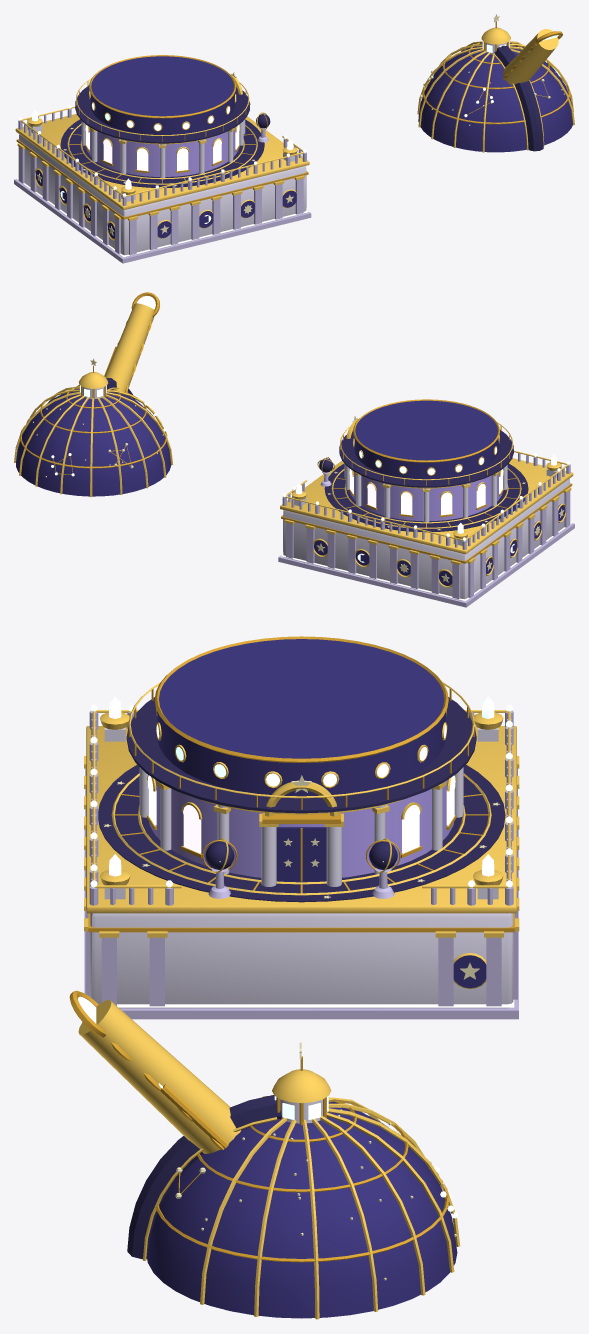
Rendered from ObservatoryV2.fbx.
3 views of the same model, one above another, from view 1: azimuth 30°, elevation 25°; view 2: azimuth 150°, elevation 25°; view 3: azimuth 270°, elevation 25° (orthographic). The views are drawn at different scales.
Visible parts, largest first — view 1: ObservatoryDomeV2__Dome__3B3480SP, ObservatoryV2__UpperDrum__3B3480SP, ObservatoryV2__Platform__EDE8FFSP, ObservatoryV2__Pilasters__CFC6F2SP, ObservatoryV2__Trim__FFD25AME, ObservatoryV2__TerraceFloor__2E2A5CSP, ObservatoryV2__Drum__B9A6FFSP, ObservatoryV2__Catwalk__2E2A5CSP, ObservatoryV2__Molding__CFC6F2SP, ObservatoryDomeV2__Ribs__FFD25AME, ObservatoryV2__Balustrade__CFC6F2SP, ObservatoryDomeV2__Telescope__FFD25AME (+14 smaller); view 2: ObservatoryDomeV2__Dome__3B3480SP, ObservatoryV2__UpperDrum__3B3480SP, ObservatoryV2__Platform__EDE8FFSP, ObservatoryV2__Pilasters__CFC6F2SP, ObservatoryV2__Trim__FFD25AME, ObservatoryV2__TerraceFloor__2E2A5CSP, ObservatoryV2__Drum__B9A6FFSP, ObservatoryDomeV2__Ribs__FFD25AME, ObservatoryV2__Catwalk__2E2A5CSP, ObservatoryDomeV2__Telescope__FFD25AME, ObservatoryV2__Molding__CFC6F2SP, ObservatoryV2__Balustrade__CFC6F2SP (+11 smaller); view 3: ObservatoryDomeV2__Dome__3B3480SP, ObservatoryV2__UpperDrum__3B3480SP, ObservatoryV2__Platform__EDE8FFSP, ObservatoryV2__Trim__FFD25AME, ObservatoryV2__TerraceFloor__2E2A5CSP, ObservatoryV2__Drum__B9A6FFSP, ObservatoryV2__Catwalk__2E2A5CSP, ObservatoryDomeV2__Telescope__FFD25AME, ObservatoryDomeV2__Ribs__FFD25AME, ObservatoryV2__Pilasters__CFC6F2SP, ObservatoryV2__Molding__CFC6F2SP, ObservatoryDomeV2__Slit__2E2A5CSP (+17 smaller).
Boxes of the visible parts, x1=… form: ObservatoryDomeV2__Dome__3B3480SP: x1=418, y1=43, x2=572, y2=152; ObservatoryV2__UpperDrum__3B3480SP: x1=90, y1=56, x2=234, y2=134; ObservatoryV2__Platform__EDE8FFSP: x1=19, y1=134, x2=306, y2=256; ObservatoryV2__Pilasters__CFC6F2SP: x1=18, y1=147, x2=306, y2=255; ObservatoryV2__Trim__FFD25AME: x1=15, y1=114, x2=309, y2=210; ObservatoryV2__TerraceFloor__2E2A5CSP: x1=60, y1=119, x2=264, y2=187; ObservatoryV2__Drum__B9A6FFSP: x1=85, y1=127, x2=238, y2=176; ObservatoryV2__Catwalk__2E2A5CSP: x1=75, y1=85, x2=250, y2=143; ObservatoryV2__Molding__CFC6F2SP: x1=14, y1=179, x2=311, y2=263; ObservatoryDomeV2__Ribs__FFD25AME: x1=417, y1=41, x2=574, y2=152; ObservatoryV2__Balustrade__CFC6F2SP: x1=18, y1=108, x2=306, y2=205; ObservatoryDomeV2__Telescope__FFD25AME: x1=503, y1=29, x2=558, y2=85; ObservatoryDomeV2__Dome__3B3480SP: x1=16, y1=389, x2=171, y2=496; ObservatoryV2__UpperDrum__3B3480SP: x1=354, y1=400, x2=498, y2=479; ObservatoryV2__Platform__EDE8FFSP: x1=283, y1=479, x2=569, y2=600; ObservatoryV2__Pilasters__CFC6F2SP: x1=283, y1=491, x2=570, y2=599; ObservatoryV2__Trim__FFD25AME: x1=280, y1=458, x2=573, y2=554; ObservatoryV2__TerraceFloor__2E2A5CSP: x1=324, y1=463, x2=528, y2=532; ObservatoryV2__Drum__B9A6FFSP: x1=350, y1=471, x2=503, y2=521; ObservatoryDomeV2__Ribs__FFD25AME: x1=14, y1=385, x2=173, y2=497; ObservatoryV2__Catwalk__2E2A5CSP: x1=339, y1=429, x2=513, y2=487; ObservatoryDomeV2__Telescope__FFD25AME: x1=105, y1=303, x2=154, y2=392; ObservatoryV2__Molding__CFC6F2SP: x1=278, y1=523, x2=574, y2=607; ObservatoryV2__Balustrade__CFC6F2SP: x1=282, y1=453, x2=570, y2=549; ObservatoryDomeV2__Dome__3B3480SP: x1=147, y1=1101, x2=457, y2=1318; ObservatoryV2__UpperDrum__3B3480SP: x1=157, y1=639, x2=445, y2=796; ObservatoryV2__Platform__EDE8FFSP: x1=90, y1=913, x2=513, y2=1008; ObservatoryV2__Trim__FFD25AME: x1=86, y1=726, x2=516, y2=913; ObservatoryV2__TerraceFloor__2E2A5CSP: x1=98, y1=764, x2=505, y2=902; ObservatoryV2__Drum__B9A6FFSP: x1=148, y1=779, x2=454, y2=877; ObservatoryV2__Catwalk__2E2A5CSP: x1=126, y1=697, x2=476, y2=813; ObservatoryDomeV2__Telescope__FFD25AME: x1=78, y1=1000, x2=240, y2=1153; ObservatoryDomeV2__Ribs__FFD25AME: x1=200, y1=1096, x2=460, y2=1319; ObservatoryV2__Pilasters__CFC6F2SP: x1=85, y1=768, x2=517, y2=1006; ObservatoryV2__Molding__CFC6F2SP: x1=84, y1=829, x2=518, y2=1019; ObservatoryDomeV2__Slit__2E2A5CSP: x1=127, y1=1095, x2=281, y2=1259.
Bounding box in the file's own units: 119 × 29.78 × 46.79.
